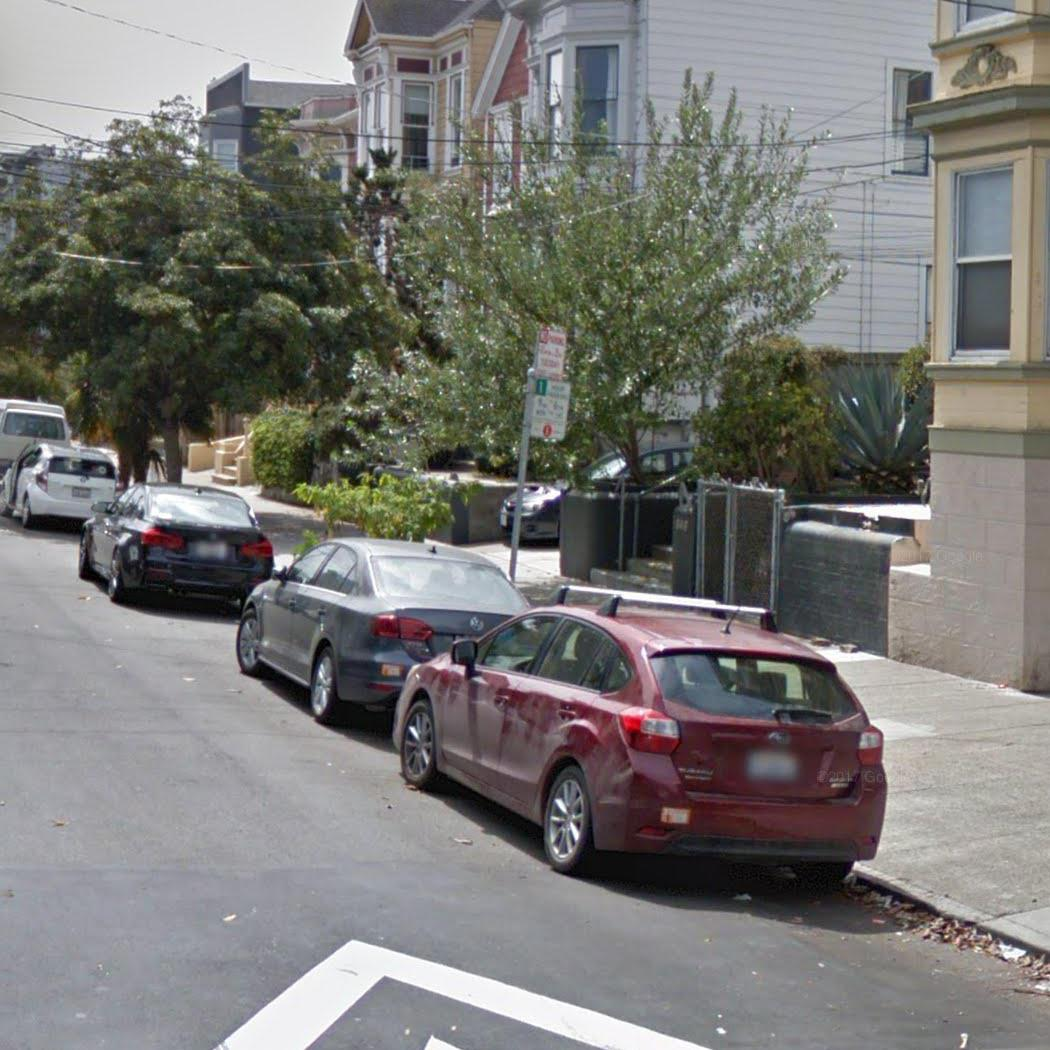1 Hour Parking: (529, 377, 572, 442)
No Parking: (534, 327, 568, 382)
